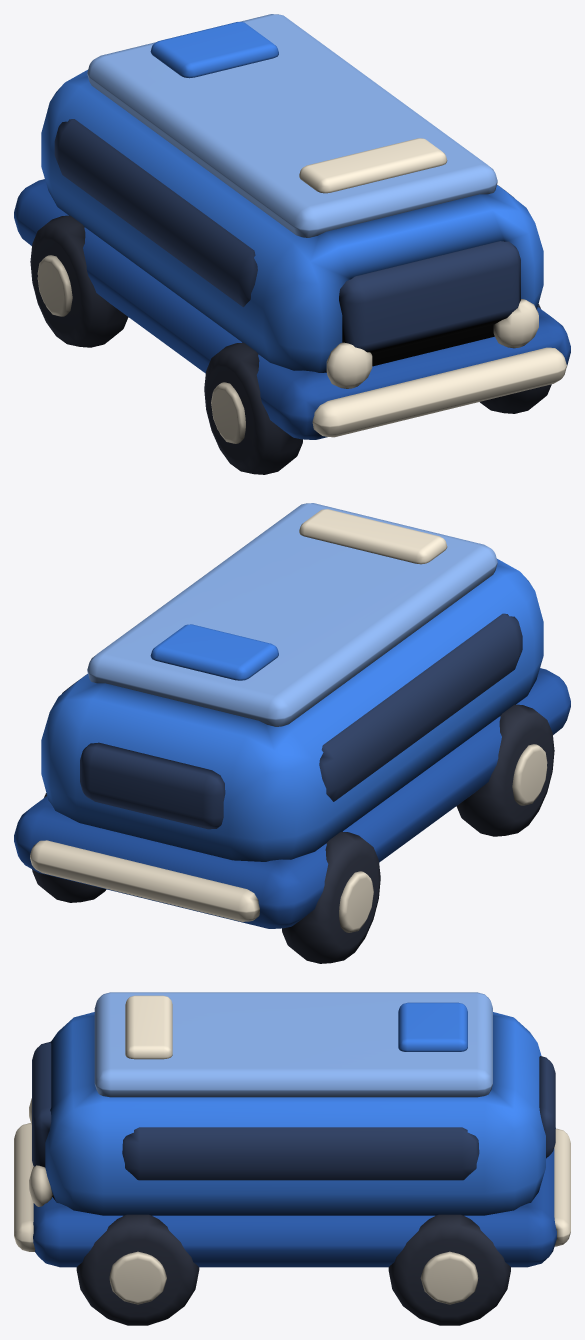
Rendered from bus.glb.
3 views of the same model, one above another, from view 1: azimuth 30°, elevation 25°; view 2: azimuth 150°, elevation 25°; view 3: azimuth 270°, elevation 25° (orthographic). The views are drawn at different scales.
Visible parts, largest first — view 1: Bus; view 2: Bus; view 3: Bus.
Boxes of the visible parts, <box> form: Bus: <box>14,14,570,474</box>; Bus: <box>14,503,570,963</box>; Bus: <box>14,992,570,1325</box>.
Bounding box in the file's own units: 2.12 × 1.8 × 3.68.
